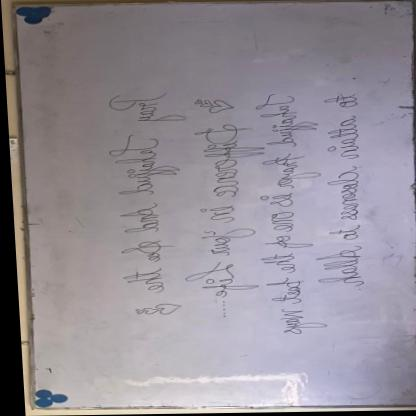Handwritten text: (244, 91, 323, 340), (94, 91, 177, 296), (170, 127, 256, 300), (306, 82, 368, 295)
Whiteboard: (8, 1, 416, 410)
